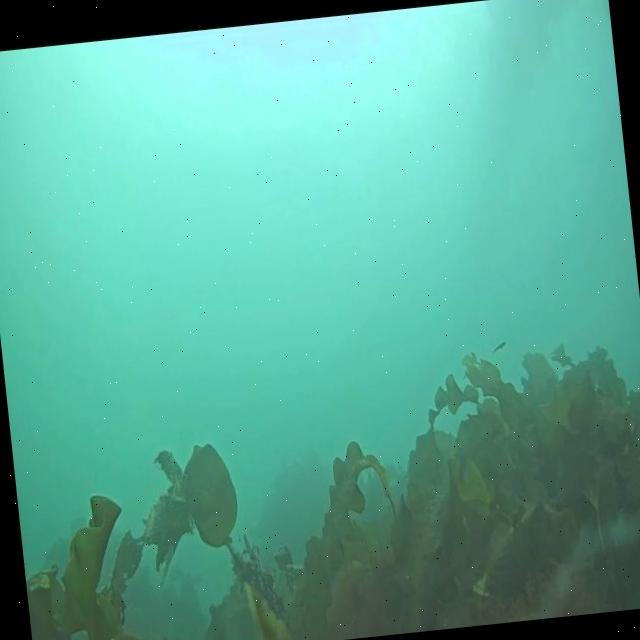fish: (489, 336, 508, 355)
